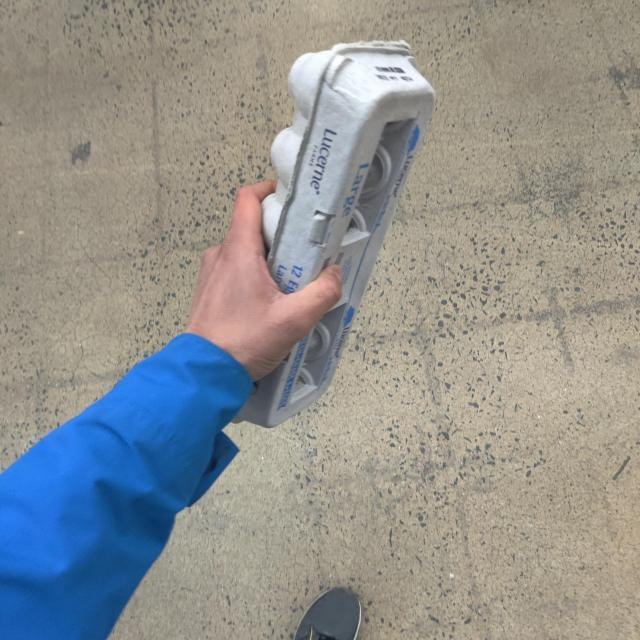Eggs: (232, 42, 440, 428)
